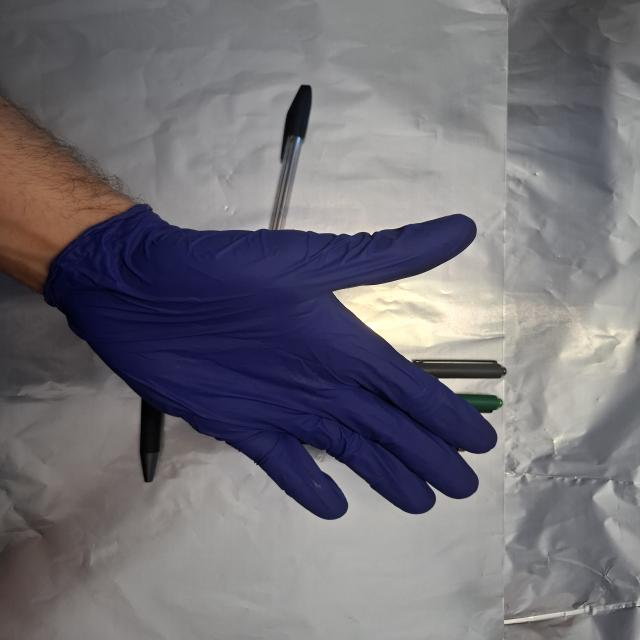glove_on: (44, 202, 502, 522)
